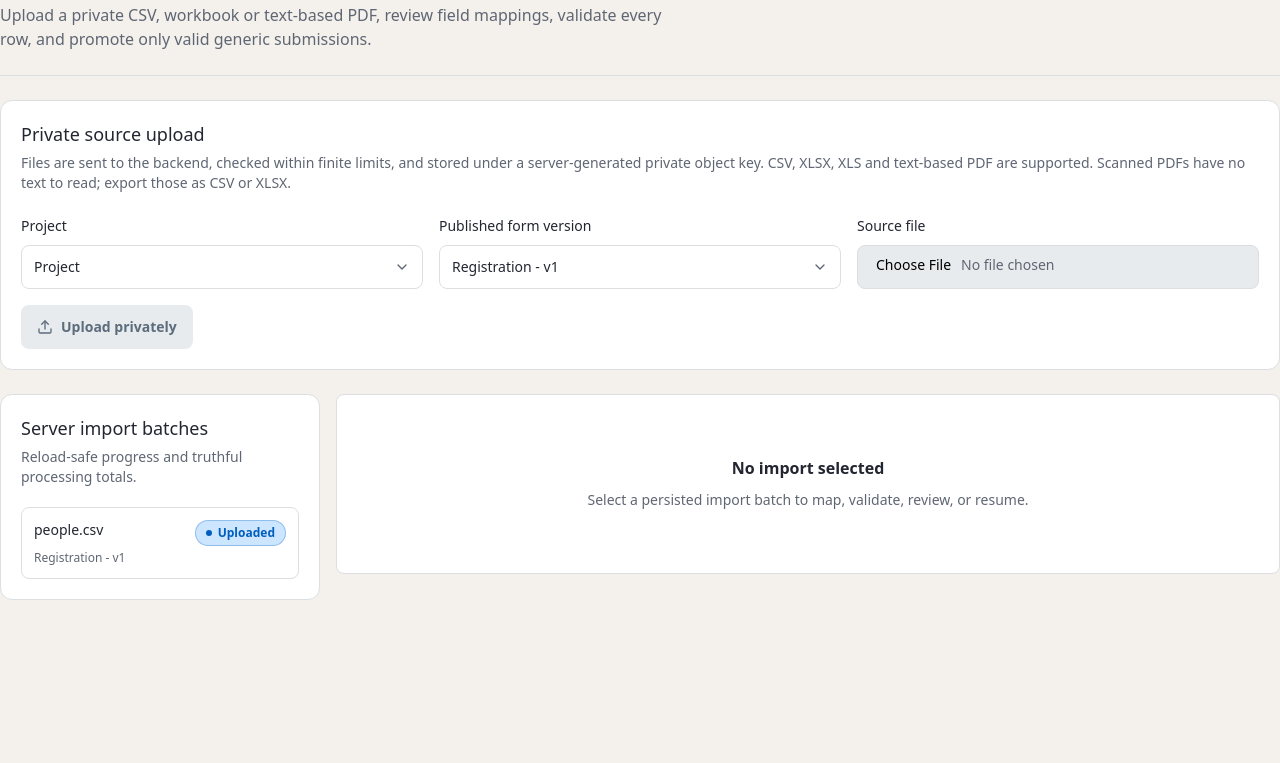
Scenario: import workspace AUTO_SMART_V2 suggestions › shows suggestions read-only and hides confirm controls without imports.review
This screenshot has width=1280, height=763.
Click the text "people.csv": (69,530) [34, 520, 103, 540]
(page scrolled)
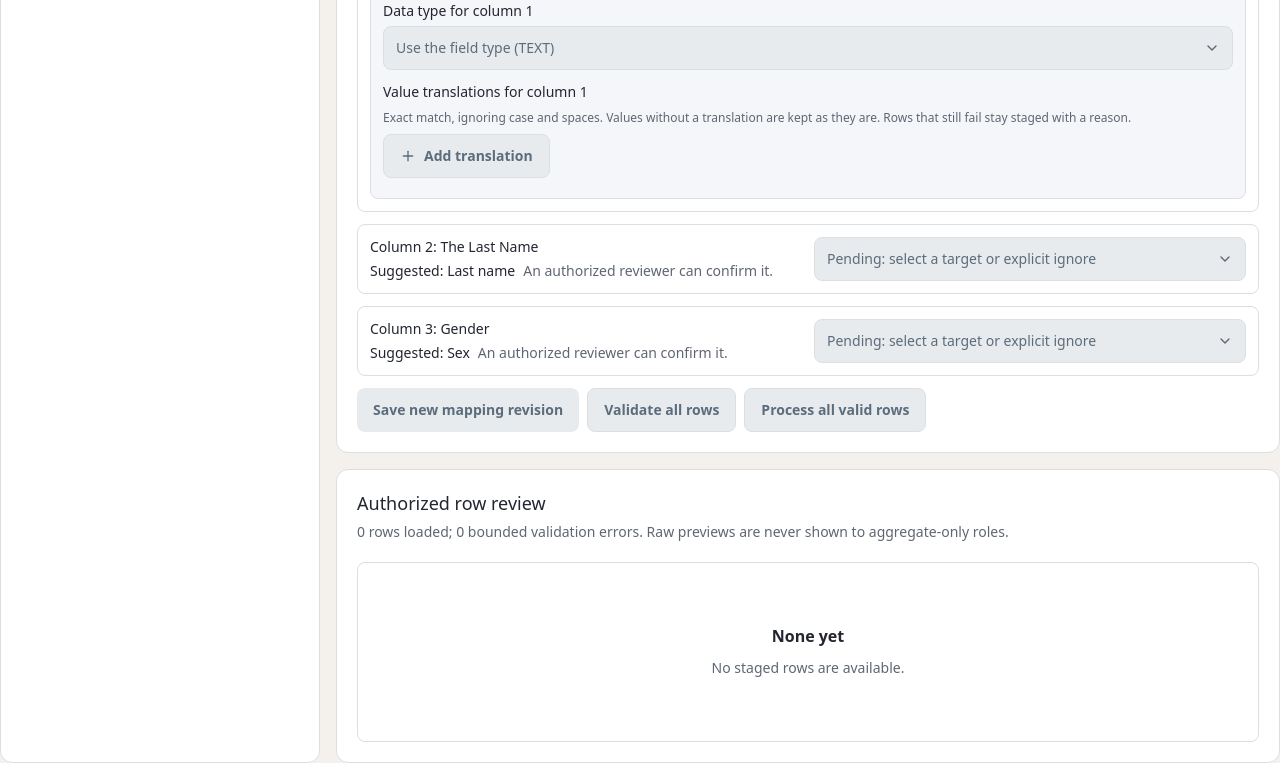
Now the text "Suggested: Last name" is shown, box [370, 261, 515, 281]
Now the text "An authorized reviewer can confirm it." is shown 2 times, box [523, 261, 773, 281]; [478, 343, 728, 363]
Now the button "Save new mapping revision" is disabled, box [357, 388, 579, 432]
